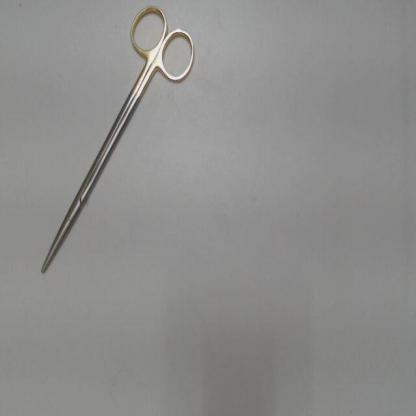7 Metzenbaum Scissors: (38, 4, 201, 282)
